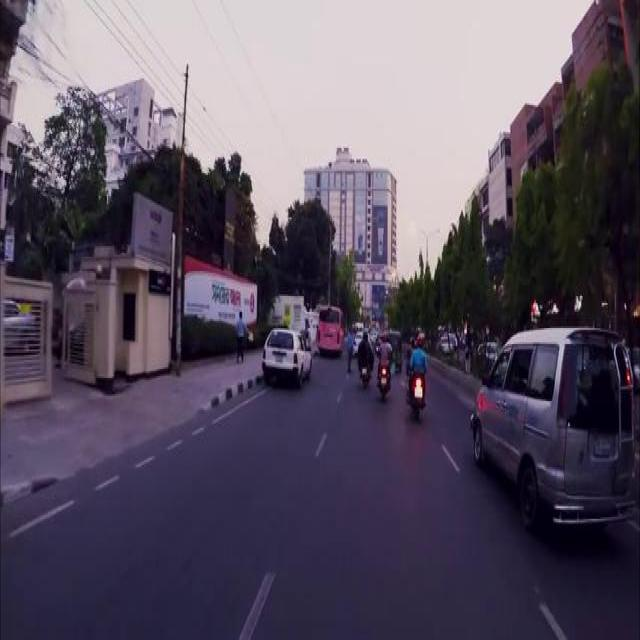bus: (316, 302, 344, 349)
car: (261, 326, 311, 378), (477, 341, 508, 364), (352, 328, 362, 351), (439, 334, 453, 349), (368, 327, 378, 342)
minivan: (468, 322, 632, 520)
motorbike: (405, 360, 425, 415), (376, 346, 390, 396), (358, 350, 372, 386)
three wheelers -CNG-: (387, 326, 401, 367)
